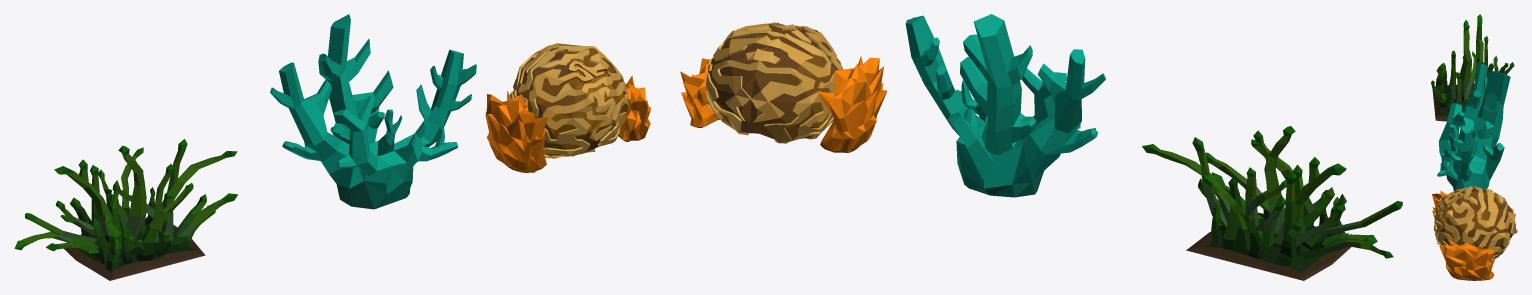
The model's file is corals.glb.
3 views of the same model, side by side, from view 1: azimuth 30°, elevation 25°; view 2: azimuth 150°, elevation 25°; view 3: azimuth 270°, elevation 25° (orthographic). The views are drawn at different scales.
Parts seen in each view (by area): view 1: Icosphere.001, Cube, Icosphere, Icosphere.002, Icosphere.003; view 2: Icosphere.001, Cube, Icosphere, Icosphere.002, Icosphere.003; view 3: Icosphere.001, Icosphere, Cube, Icosphere.003, Icosphere.002.
Boxes of the visible parts, x1=… form: Icosphere.001: x1=270, y1=14, x2=476, y2=209; Cube: x1=14, y1=139, x2=238, y2=280; Icosphere: x1=510, y1=43, x2=628, y2=158; Icosphere.002: x1=485, y1=91, x2=548, y2=173; Icosphere.003: x1=618, y1=75, x2=651, y2=141; Icosphere.001: x1=905, y1=14, x2=1105, y2=197; Cube: x1=1142, y1=126, x2=1402, y2=280; Icosphere: x1=706, y1=22, x2=843, y2=143; Icosphere.002: x1=817, y1=55, x2=887, y2=152; Icosphere.003: x1=680, y1=58, x2=719, y2=127; Icosphere.001: x1=1437, y1=63, x2=1510, y2=190; Icosphere: x1=1433, y1=186, x2=1517, y2=259; Cube: x1=1431, y1=14, x2=1514, y2=121; Icosphere.003: x1=1439, y1=239, x2=1494, y2=280; Icosphere.002: x1=1432, y1=189, x2=1458, y2=218.
Size of the model in its own units: 11.43 by 2.95 by 1.94.
5 materials, 5 textured.
